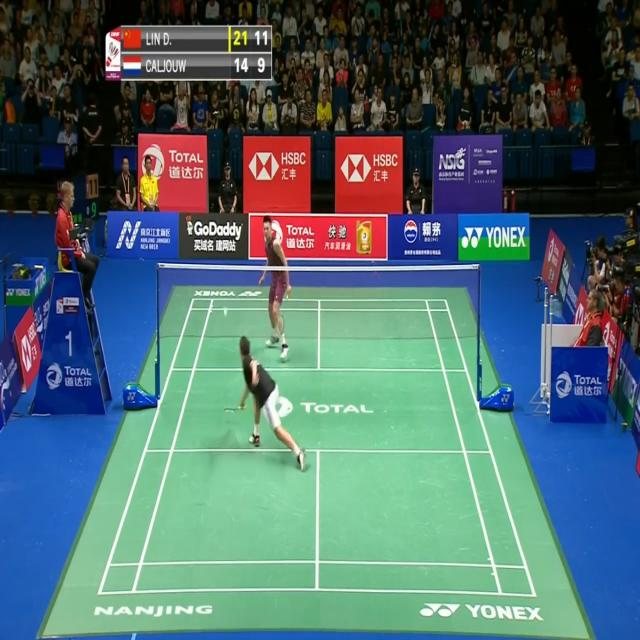Player1: (234, 328, 310, 480)
Player2: (253, 205, 295, 367)
